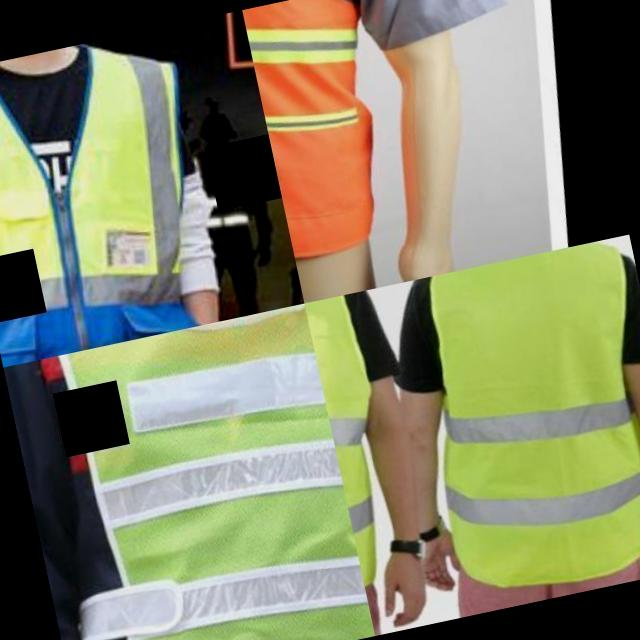vest: (30, 303, 375, 640), (402, 233, 640, 614), (0, 23, 235, 358), (241, 0, 437, 262)
